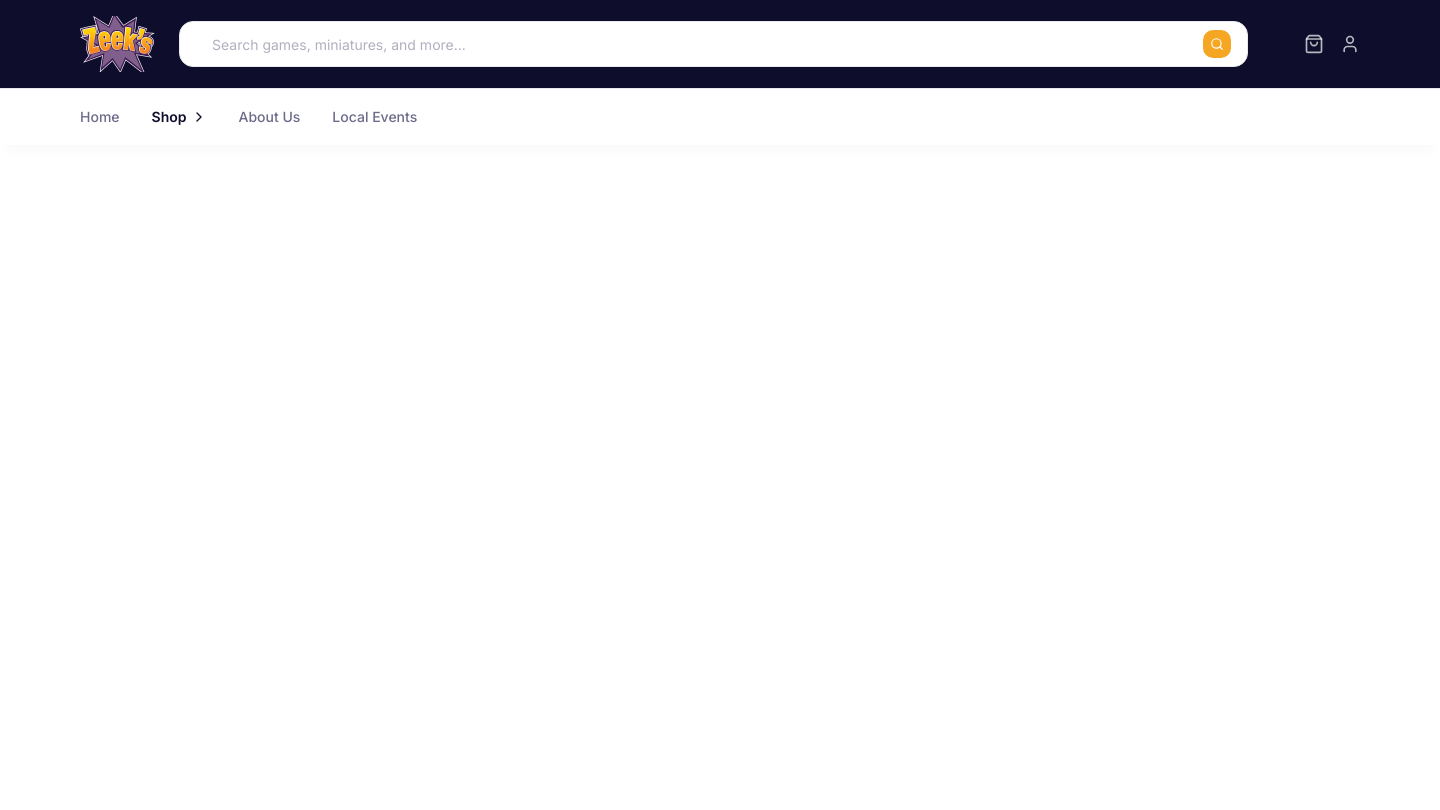
Test: ShopMenu — Mobile drilldown (US2) › should open a full-screen drawer listing top-level categories
Click the button "Shop" at (179, 117), box [152,89,206,145]
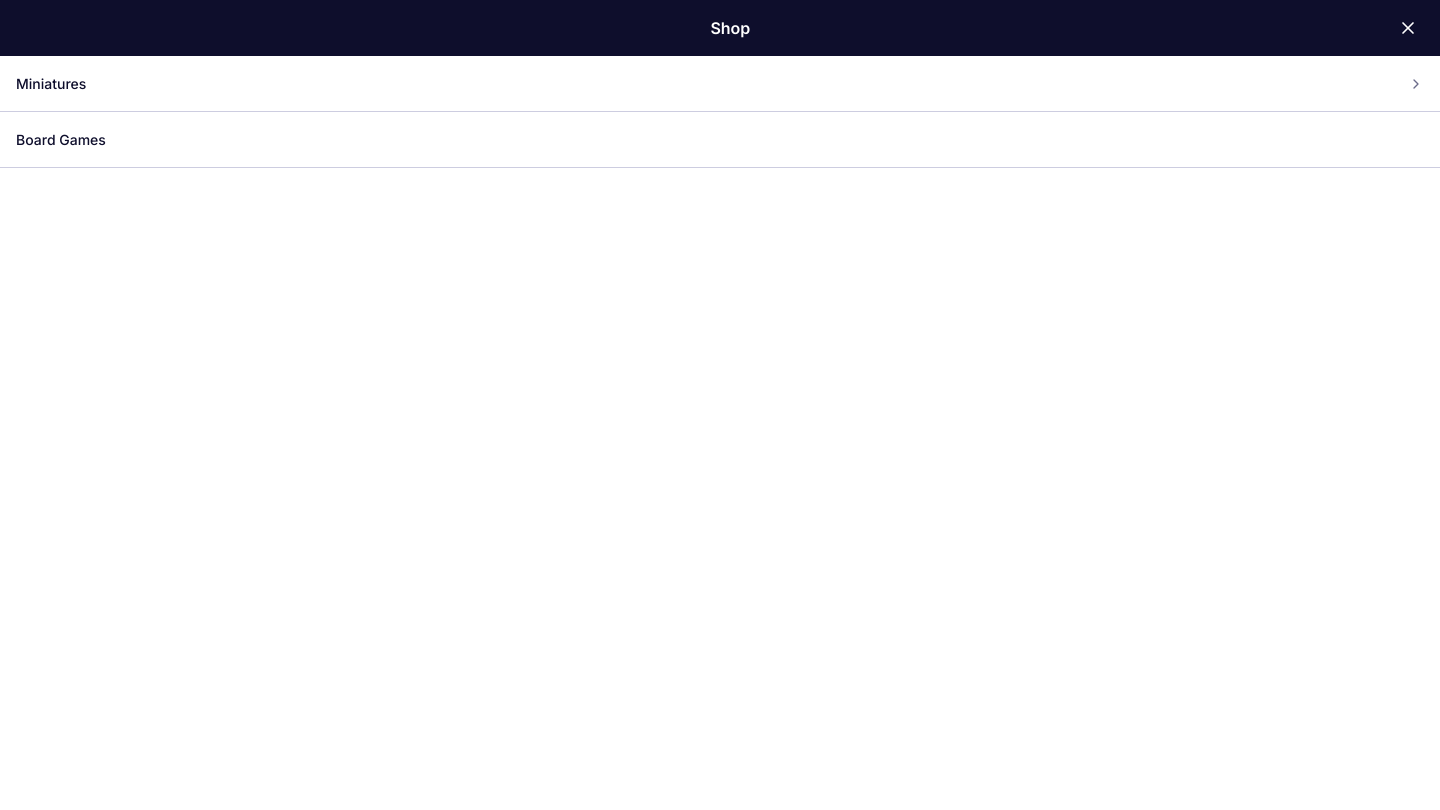
Result: the dialog named "Shop menu" is shown
Result: the button "Miniatures" is shown at [0,56,1408,111]
Result: the link "Board Games" is shown at [16,130,106,148]
